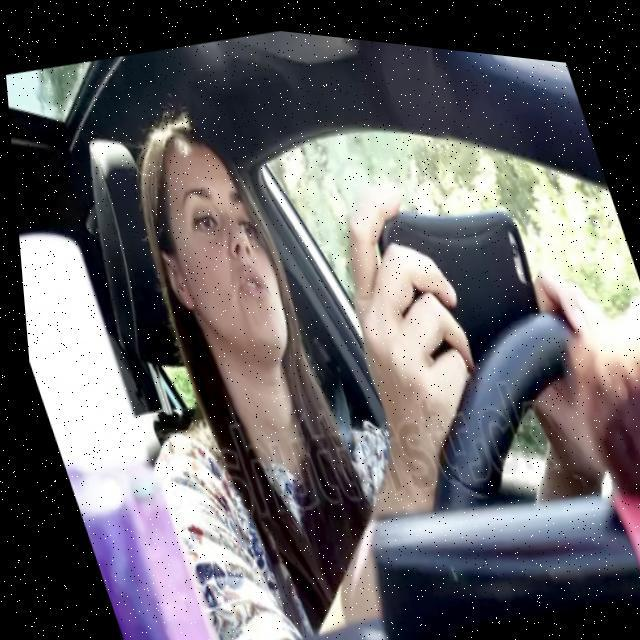PhoneCall: (362, 170, 555, 374)
